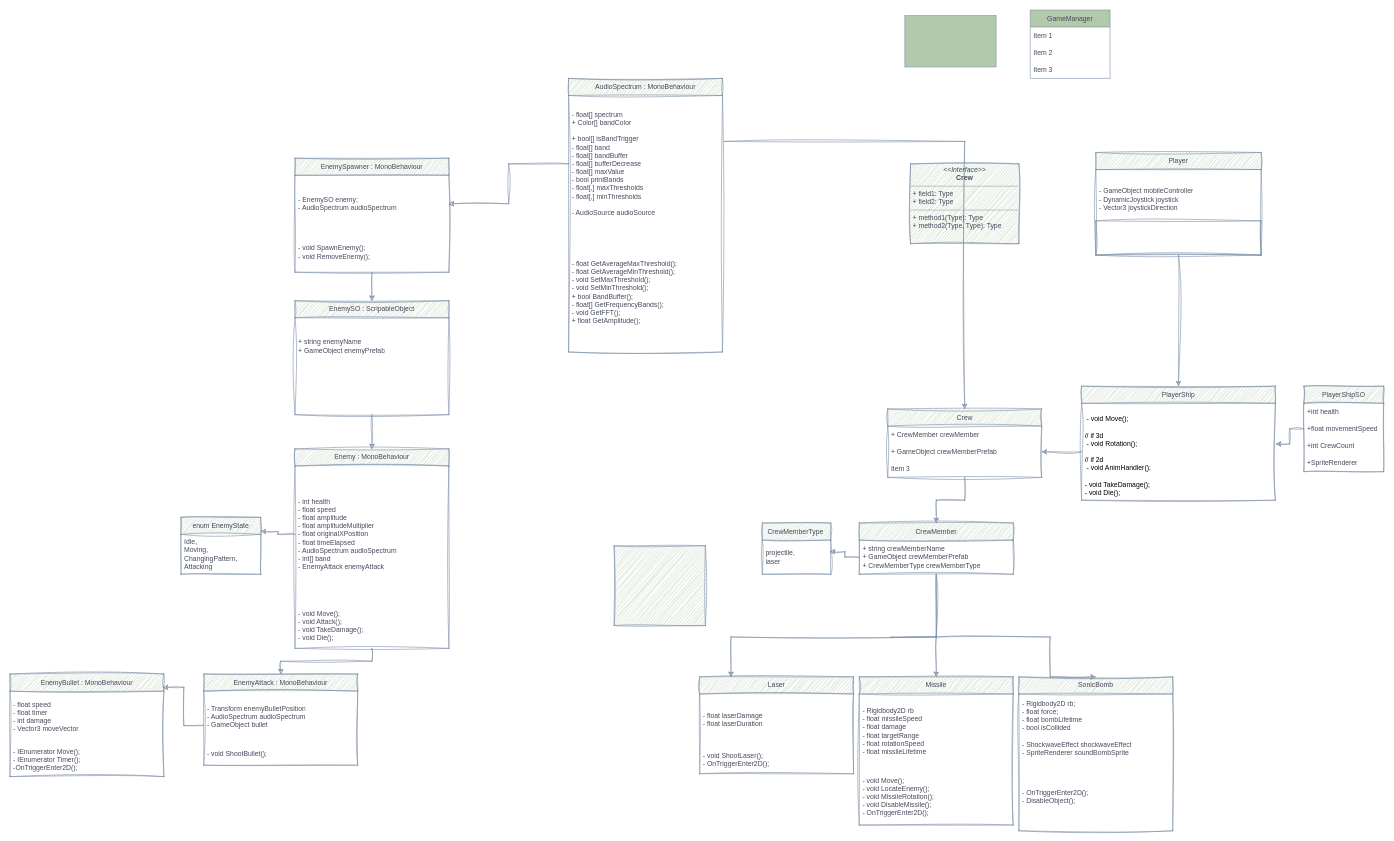
The diagram is 1394 pixels wide and 841 high, and some of its shapes have lost their labels. Each missing label, with the centre of its shape:
+ Main();: pixel 1178 237
Object:Type field1 = value1 field2 = value2 field3 = value3: pixel 950 41
Projectile + field: Type - Laser(); - Missile(); - SonicBomb();: pixel 659 585
